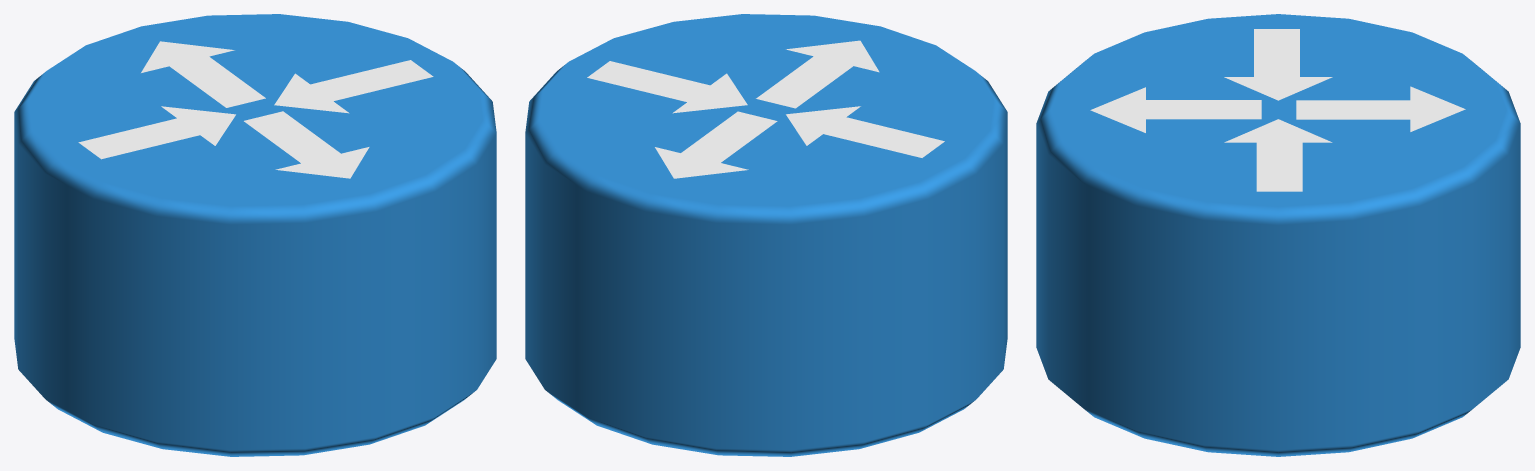
The model's file is 路由器.obj.
3 renders of one model, left to right at view 1: azimuth 30°, elevation 25°; view 2: azimuth 150°, elevation 25°; view 3: azimuth 270°, elevation 25°, orthographic.
Bounding box in the file's own units: 1.56 × 0.8927 × 1.56.
